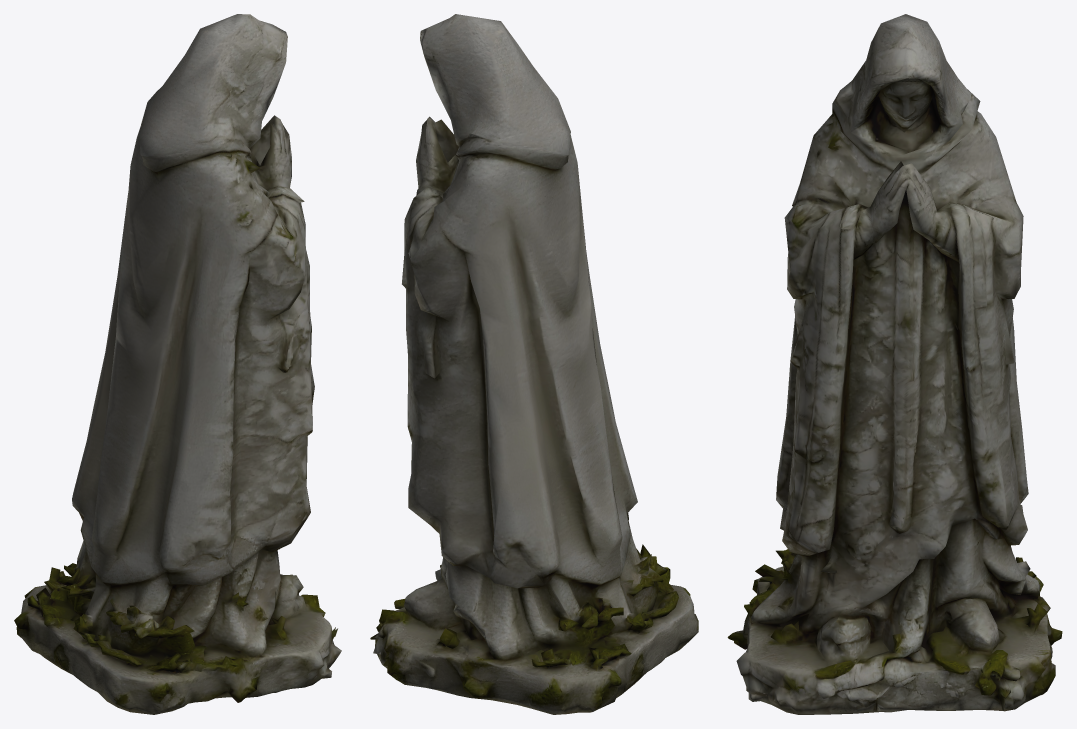
Rendered from estatua.glb.
The picture shows the model from 3 angles, left to right: view 1: azimuth 30°, elevation 25°; view 2: azimuth 150°, elevation 25°; view 3: azimuth 270°, elevation 25°; orthographic projection. The views are drawn at different scales.
Parts seen in each view (by area): view 1: tripo_node_1a2a7e26-349c-499a-b0df-e9a09dce0a33; view 2: tripo_node_1a2a7e26-349c-499a-b0df-e9a09dce0a33; view 3: tripo_node_1a2a7e26-349c-499a-b0df-e9a09dce0a33.
Part boxes in pixels (<box>): tripo_node_1a2a7e26-349c-499a-b0df-e9a09dce0a33: <box>14,14,341,714</box>; tripo_node_1a2a7e26-349c-499a-b0df-e9a09dce0a33: <box>370,14,698,714</box>; tripo_node_1a2a7e26-349c-499a-b0df-e9a09dce0a33: <box>727,14,1062,714</box>.
Bounding box in the file's own units: 0.4067 × 1 × 0.4542.
1 material, 1 textured.
